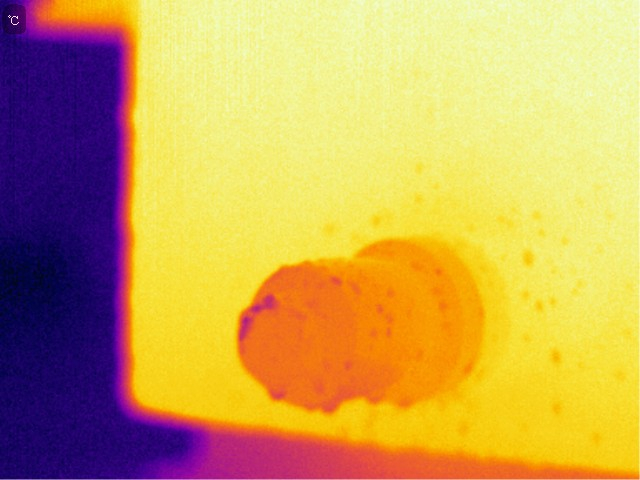Water: (320, 397, 344, 416), (267, 386, 286, 406), (392, 395, 414, 411), (367, 391, 383, 407), (329, 273, 345, 288), (382, 285, 398, 297)
